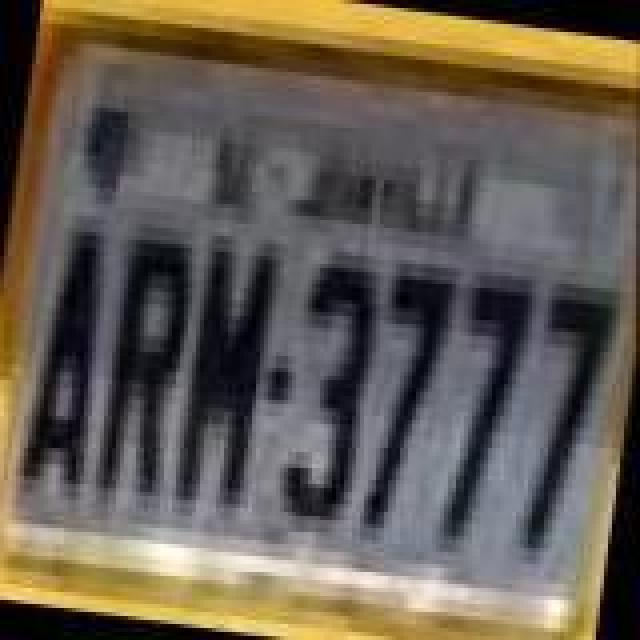3: (270, 254, 382, 530)
7: (510, 274, 622, 558), (354, 262, 458, 538), (434, 274, 538, 550)
A: (20, 228, 120, 500)
M: (170, 234, 282, 518)
R: (88, 230, 196, 506)
